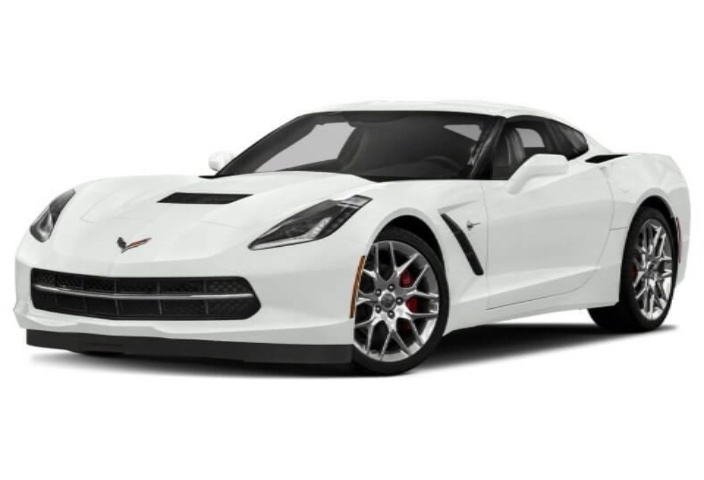car: (22, 70, 701, 388)
